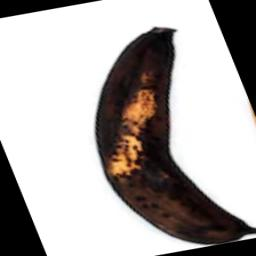Banana Rotten: (91, 15, 256, 242)
